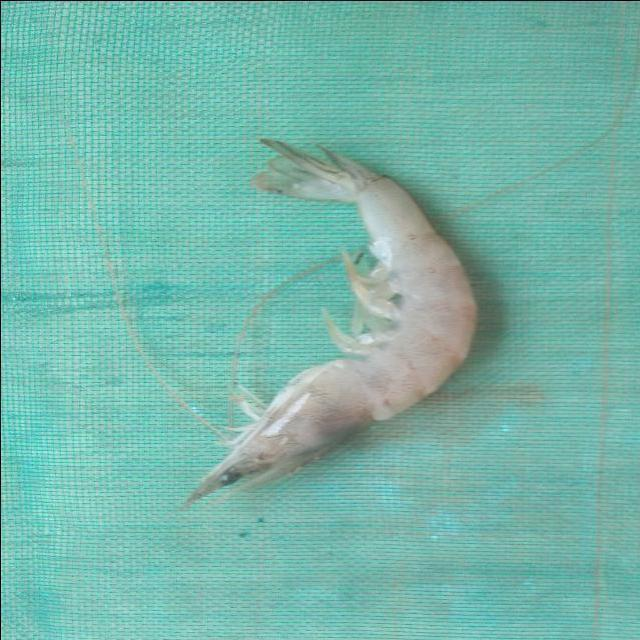shrimp: (184, 138, 476, 505)
